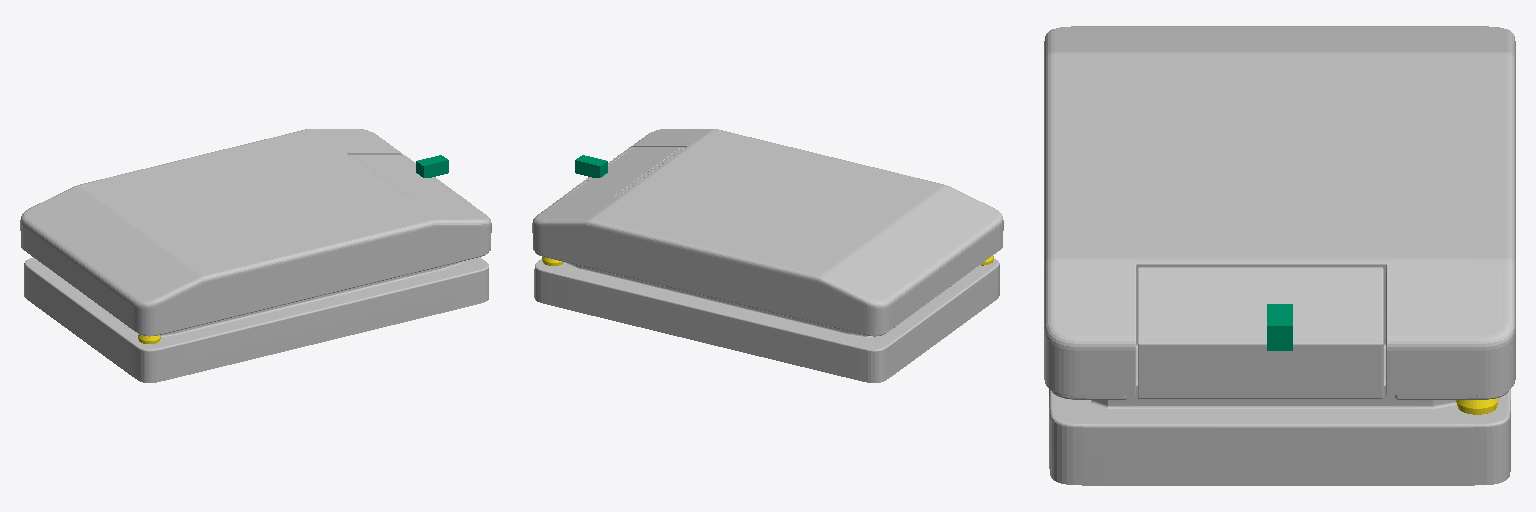
robot.urdf — me00:
<?xml version="1.0" ?>
<!-- =================================================================================== -->
<!-- |    This document was autogenerated by xacro from me00.xacro                     | -->
<!-- |    EDITING THIS FILE BY HAND IS NOT RECOMMENDED                                 | -->
<!-- =================================================================================== -->
<robot name="me00">
  <!-- 45º -->
  <!-- locationprefix = back or front -->
  <!-- wheel_base_dx = distancia adelante atras-->
  <!-- wheel_base_dz = distancia arriba abajo -->
  <!--**************************************************************-->
  <!--DUMMY LINK (without inertia)-->
  <!--**************************************************************-->
  <link name="base_footprint"/>
  <!--**************************************************************-->
  <!--CHASSIS (base link)-->
  <!--**************************************************************-->
  <link name="base_link">
    <inertial>
      <mass value="200.0"/>
      <origin rpy="0 0 1.5620696817948965" xyz="0 0 0"/>
      <inertia ixx="34.802733333333336" ixy="0.0" ixz="0.0" iyy="15.042733333333333" iyz="0.0" izz="45.57333333333334"/>
    </inertial>
    <!--COLLISION-->
    <collision>
      <geometry>
        <mesh filename="package://me00_description/mesh/base.stl" scale="0.001 0.001 0.001"/>
      </geometry>
    </collision>
    <!--VISUAL-->
    <visual>
      <geometry>
        <mesh filename="package://me00_description/mesh/base.stl" scale="0.001 0.001 0.001"/>
      </geometry>
      <material name="aluminum">
        <color rgba="0.8 0.8 0.8 1"/>
      </material>
    </visual>
  </link>
  <!--JOINT-->
  <joint name="base_joint" type="fixed">
    <origin rpy="0 0 0" xyz="0.0 0.0 0.219"/>
    <parent link="base_footprint"/>
    <child link="base_link"/>
  </joint>
  <!--**************************************************************-->
  <!--LEFT WHEEL-->
  <!--**************************************************************-->
  <link name="wheel_left_link">
    <inertial>
      <mass value="40.0"/>
      <origin rpy="1.5707963267948966 0 0" xyz="0 0 0"/>
      <inertia ixx="0.10533329120000001" ixy="0.0" ixz="0.0" iyy="0.10533329120000001" iyz="0.0" izz="0.2"/>
    </inertial>
    <!--COLLISION-->
    <collision>
      <geometry>
        <mesh filename="package://me00_description/mesh/wheel.stl" scale="0.001 0.001 0.001"/>
      </geometry>
    </collision>
    <!--VISUAL-->
    <visual>
      <geometry>
        <mesh filename="package://me00_description/mesh/wheel.stl" scale="0.001 0.001 0.001"/>
      </geometry>
      <material name="yellow">
        <color rgba="0.96 0.88 0.14 1.0"/>
      </material>
    </visual>
  </link>
  <!--JOINT-->
  <joint name="wheel_left_joint" type="continuous">
    <origin rpy="0 0 0" xyz="0.0 0.3 -0.119"/>
    <child link="wheel_left_link"/>
    <parent link="base_link"/>
    <axis rpy="0 0 0" xyz="0 1 0"/>
  </joint>
  <!--**************************************************************-->
  <!--RIGHT WHEEL-->
  <!--**************************************************************-->
  <link name="wheel_right_link">
    <inertial>
      <mass value="40.0"/>
      <origin rpy="1.5707963267948966 0 0" xyz="0 0 0"/>
      <inertia ixx="0.10533329120000001" ixy="0.0" ixz="0.0" iyy="0.10533329120000001" iyz="0.0" izz="0.2"/>
    </inertial>
    <!--COLLISION-->
    <collision>
      <geometry>
        <mesh filename="package://me00_description/mesh/wheel.stl" scale="0.001 0.001 0.001"/>
      </geometry>
    </collision>
    <!--VISUAL-->
    <visual>
      <geometry>
        <mesh filename="package://me00_description/mesh/wheel.stl" scale="0.001 0.001 0.001"/>
      </geometry>
      <material name="yellow">
        <color rgba="0.96 0.88 0.14 1.0"/>
      </material>
    </visual>
  </link>
  <!--JOINT-->
  <joint name="wheel_right_joint" type="continuous">
    <origin rpy="0 0 0" xyz="0.0 -0.3 -0.119"/>
    <child link="wheel_right_link"/>
    <parent link="base_link"/>
    <axis rpy="0 0 0" xyz="0 1 0"/>
  </joint>
  <!--**************************************************************-->
  <!--FRONT LASER-->
  <!--**************************************************************-->
  <!-- JOINT -->
  <joint name="front_laser_joint" type="fixed">
    <origin rpy="0 0 0.78539805" xyz="0.64 0.37 -0.02"/>
    <parent link="base_link"/>
    <child link="laser_front_link"/>
    <dynamics damping="0.01" friction="0.0"/>
  </joint>
  <!-- LINK -->
  <link name="laser_front_link">
    <inertial>
      <origin rpy="0 0 0" xyz="0 0 0"/>
      <mass value="0.3097539019"/>
      <inertia ixx="0.0005844517978" ixy="0" ixz="0" iyy="0.00052872551237" iyz="0" izz="0.00017923555074"/>
    </inertial>
    <visual>
      <!-- VISUAL -->
      <origin rpy="0 0 0" xyz="0 0 0"/>
      <geometry>
        <mesh filename="package://me00_description/mesh/laser.stl" scale="0.001 0.001 0.001"/>
      </geometry>
      <material name="yellow">
        <color rgba="0.96 0.88 0.14 1.0"/>
      </material>
    </visual>
    <collision>
      <!-- COLLISION -->
      <origin rpy="0 0 0" xyz="0 0 0"/>
      <geometry>
        <mesh filename="package://me00_description/mesh/laser.stl" scale="0.001 0.001 0.001"/>
      </geometry>
    </collision>
  </link>
  <!--**************************************************************-->
  <!--BACK LASER-->
  <!--**************************************************************-->
  <!-- JOINT -->
  <joint name="back_laser_joint" type="fixed">
    <origin rpy="0 0 3.926990703589793" xyz="-0.64 -0.37 -0.02"/>
    <parent link="base_link"/>
    <child link="laser_back_link"/>
    <dynamics damping="0.01" friction="0.0"/>
  </joint>
  <!-- LINK -->
  <link name="laser_back_link">
    <inertial>
      <origin rpy="0 0 0" xyz="0 0 0"/>
      <mass value="0.3097539019"/>
      <inertia ixx="0.0005844517978" ixy="0" ixz="0" iyy="0.00052872551237" iyz="0" izz="0.00017923555074"/>
    </inertial>
    <visual>
      <!-- VISUAL -->
      <origin rpy="0 0 0" xyz="0 0 0"/>
      <geometry>
        <mesh filename="package://me00_description/mesh/laser.stl" scale="0.001 0.001 0.001"/>
      </geometry>
      <material name="yellow">
        <color rgba="0.96 0.88 0.14 1.0"/>
      </material>
    </visual>
    <collision>
      <!-- COLLISION -->
      <origin rpy="0 0 0" xyz="0 0 0"/>
      <geometry>
        <mesh filename="package://me00_description/mesh/laser.stl" scale="0.001 0.001 0.001"/>
      </geometry>
    </collision>
  </link>
  <!--**************************************************************-->
  <!--CASTER WHEEL-->
  <!--**************************************************************-->
  <!-- caster hub/base -->
  <joint name="front_caster_rotation_joint" type="continuous">
    <origin rpy="0 0 0" xyz="0.5 0 -0.09000000000000001"/>
    <parent link="base_link"/>
    <child link="front_caster_rotation_link"/>
    <axis xyz="0 0 1"/>
    <dynamics damping="0.01" friction="0.0"/>
  </joint>
  <link name="front_caster_rotation_link">
    <inertial>
      <origin rpy="0 0 1.5707963267948966 " xyz="0 0 -0.042500000044"/>
      <mass value="10.0"/>
      <inertia ixx="0.0005844517978" ixy="0" ixz="0" iyy="0.00052872551237" iyz="0" izz="0.00017923555074"/>
    </inertial>
    <visual>
      <origin rpy="0 0 3.141592653589793" xyz="0 0 0"/>
      <geometry>
        <mesh filename="package://me00_description/mesh/caster_base_test.stl" scale="0.001 0.001 0.001"/>
      </geometry>
    </visual>
    <collision>
      <origin rpy="0 0 3.141592653589793" xyz="0 0 0"/>
      <geometry>
        <mesh filename="package://me00_description/mesh/caster_base_test.stl" scale="0.001 0.001 0.001"/>
      </geometry>
    </collision>
  </link>
  <!-- caster wheel -->
  <joint name="front_caster_wheel_joint" type="continuous">
    <origin rpy="0 0 0" xyz="-0.038 0 -0.079"/>
    <parent link="front_caster_rotation_link"/>
    <child link="front_caster_wheel_link"/>
    <axis xyz="0 1 0"/>
  </joint>
  <link name="front_caster_wheel_link">
    <inertial>
      <mass value="5.0"/>
      <origin rpy="1.5707963267948966 0 0" xyz="0 0 0"/>
      <inertia ixx="0.0031666654000000005" ixy="0.0" ixz="0.0" iyy="0.0031666654000000005" iyz="0.0" izz="0.00625"/>
    </inertial>
    <visual>
      <origin rpy="0 0 3.141592653589793" xyz="0 0 0"/>
      <geometry>
        <mesh filename="package://me00_description/mesh/caster_wheel.stl" scale="0.001 0.001 0.001"/>
      </geometry>
      <material name="cyan">
        <color rgba="0.0 0.0 0.8 1.0"/>
      </material>
    </visual>
    <collision>
      <origin rpy="0 0 3.141592653589793" xyz="0 0 0"/>
      <geometry>
        <mesh filename="package://me00_description/mesh/caster_wheel.stl" scale="0.001 0.001 0.001"/>
      </geometry>
    </collision>
  </link>
  <!-- caster hub/base -->
  <joint name="back_caster_rotation_joint" type="continuous">
    <origin rpy="0 0 0" xyz="-0.5 0 -0.09000000000000001"/>
    <parent link="base_link"/>
    <child link="back_caster_rotation_link"/>
    <axis xyz="0 0 1"/>
    <dynamics damping="0.01" friction="0.0"/>
  </joint>
  <link name="back_caster_rotation_link">
    <inertial>
      <origin rpy="0 0 1.5707963267948966 " xyz="0 0 -0.042500000044"/>
      <mass value="10.0"/>
      <inertia ixx="0.0005844517978" ixy="0" ixz="0" iyy="0.00052872551237" iyz="0" izz="0.00017923555074"/>
    </inertial>
    <visual>
      <origin rpy="0 0 3.141592653589793" xyz="0 0 0"/>
      <geometry>
        <mesh filename="package://me00_description/mesh/caster_base_test.stl" scale="0.001 0.001 0.001"/>
      </geometry>
    </visual>
    <collision>
      <origin rpy="0 0 3.141592653589793" xyz="0 0 0"/>
      <geometry>
        <mesh filename="package://me00_description/mesh/caster_base_test.stl" scale="0.001 0.001 0.001"/>
      </geometry>
    </collision>
  </link>
  <!-- caster wheel -->
  <joint name="back_caster_wheel_joint" type="continuous">
    <origin rpy="0 0 0" xyz="-0.038 0 -0.079"/>
    <parent link="back_caster_rotation_link"/>
    <child link="back_caster_wheel_link"/>
    <axis xyz="0 1 0"/>
  </joint>
  <link name="back_caster_wheel_link">
    <inertial>
      <mass value="5.0"/>
      <origin rpy="1.5707963267948966 0 0" xyz="0 0 0"/>
      <inertia ixx="0.0031666654000000005" ixy="0.0" ixz="0.0" iyy="0.0031666654000000005" iyz="0.0" izz="0.00625"/>
    </inertial>
    <visual>
      <origin rpy="0 0 3.141592653589793" xyz="0 0 0"/>
      <geometry>
        <mesh filename="package://me00_description/mesh/caster_wheel.stl" scale="0.001 0.001 0.001"/>
      </geometry>
      <material name="cyan">
        <color rgba="0.0 0.0 0.8 1.0"/>
      </material>
    </visual>
    <collision>
      <origin rpy="0 0 3.141592653589793" xyz="0 0 0"/>
      <geometry>
        <mesh filename="package://me00_description/mesh/caster_wheel.stl" scale="0.001 0.001 0.001"/>
      </geometry>
    </collision>
  </link>
  <!--**************************************************************-->
  <!--BACK CASTER SPHERE WHEEL-->
  <!--**************************************************************-->
  <!-- <joint name="back_caster_sphere_joint" type="fixed">
        <origin xyz="${caster_base_back_x} ${caster_base_back_y} ${caster_base_back_z+caster_wheel_to_base_z}" rpy="0 0 0" />
        <parent link="${base_link}" />
        <child link="back_caster_sphere_link" />
    </joint>

    <link name="back_caster_sphere_link">
        <xacro:sphere_inertia m="${caster_wheel_mass}" r="${caster_radius}">
            <origin xyx="0 0 0" rpy="0 0 0" />
        </xacro:sphere_inertia>
        <visual>
            <origin xyz="0 0 0" rpy="0 0 0" />
            <geometry>
                <mesh filename="${caster_sphere_wheel_mesh}" scale="${mesh_scale} ${mesh_scale} ${mesh_scale}"/>
            </geometry>
            <xacro:insert_block name="material_blue"/>
        </visual>
        <collision>
            <origin xyz="0 0 0" rpy="0 0 0" />          
            <geometry>
                <mesh filename="${caster_sphere_wheel_mesh}" scale="${mesh_scale} ${mesh_scale} ${mesh_scale}"/>
            </geometry>
        </collision>
    </link> -->
  <!--**************************************************************-->
  <!--FRONT CASTER SPHERE WHEEL-->
  <!--**************************************************************-->
  <!-- <joint name="front_caster_sphere_joint" type="fixed">
        <origin xyz="${caster_base_front_x} ${caster_base_front_y} ${caster_base_front_z+caster_wheel_to_base_z}" rpy="0 0 0" />
        <parent link="${base_link}" />
        <child link="front_caster_sphere_link" />
    </joint>

    <link name="front_caster_sphere_link">
        <xacro:sphere_inertia m="${caster_wheel_mass}" r="${caster_radius}">
            <origin xyx="0 0 0" rpy="0 0 0" />
        </xacro:sphere_inertia>
        <visual>
            <origin xyz="0 0 0" rpy="0 0 0" />
            <geometry>
                <mesh filename="${caster_sphere_wheel_mesh}" scale="${mesh_scale} ${mesh_scale} ${mesh_scale}"/>
            </geometry>
            <xacro:insert_block name="material_blue"/>
        </visual>
        <collision>
            <origin xyz="0 0 0" rpy="0 0 0" />          
            <geometry>
                <mesh filename="${caster_sphere_wheel_mesh}" scale="${mesh_scale} ${mesh_scale} ${mesh_scale}"/>
            </geometry>
        </collision>
    </link> -->
  <!--**************************************************************-->
  <!--USB CAMERA-->
  <!--**************************************************************-->
  <link name="camera_link">
    <!--INERTIA-->
    <!--Not calling macro, just small values-->
    <inertial>
      <mass value="0.005"/>
      <inertia ixx="0.001" ixy="0.0" ixz="0.0" iyy="0.001" iyz="0.0" izz="0.001"/>
    </inertial>
    <collision>
      <geometry>
        <box size="0.1 0.05 0.05"/>
      </geometry>
    </collision>
    <visual>
      <geometry>
        <box size="0.1 0.05 0.05"/>
      </geometry>
      <material name="dark"/>
    </visual>
  </link>
  <joint name="camera_joint" type="fixed">
    <origin rpy="0 0 0" xyz="0.7 0 0.15"/>
    <child link="camera_link"/>
    <parent link="base_link"/>
  </joint>
  <gazebo reference="base_link">
    <material>Gazebo/FlatBlack</material>
  </gazebo>
  <gazebo reference="wheel_left_link">
    <material>Gazebo/FlatBlack</material>
    <mu1>0.9</mu1>
    <mu2>0.9</mu2>
    <kp>10000000.0</kp>
    <kd>1.0</kd>
    <minDepth>0.01</minDepth>
  </gazebo>
  <gazebo reference="wheel_right_link">
    <material>Gazebo/FlatBlack</material>
    <mu1>0.9</mu1>
    <mu2>0.9</mu2>
    <kp>10000000.0</kp>
    <kd>1.0</kd>
    <minDepth>0.01</minDepth>
  </gazebo>
  <gazebo reference="front_caster_wheel_link">
    <material>Gazebo/Blue</material>
    <mu1>0.1</mu1>
    <mu2>0.1</mu2>
    <kp>10000000.0</kp>
    <kd>1.0</kd>
  </gazebo>
  <gazebo reference="back_caster_wheel_link">
    <material>Gazebo/Blue</material>
    <mu1>0.1</mu1>
    <mu2>0.1</mu2>
    <kp>10000000.0</kp>
    <kd>1.0</kd>
  </gazebo>
  <!-- <gazebo reference="back_caster_sphere_link">
  <material>Gazebo/Blue</material>
  <mu1>0.01</mu1>
  <mu2>0.01</mu2>
  <kp>1000000.0</kp>
  <kd>0.01</kd>
  <minDepth>0.01</minDepth>
</gazebo>

<gazebo reference="front_caster_sphere_link">
  <material>Gazebo/Blue</material>
  <mu1>0.01</mu1>
  <mu2>0.01</mu2>
  <kp>1000000.0</kp>
  <kd>0.01</kd>
  <minDepth>0.01</minDepth>
</gazebo> -->
  <gazebo reference="front_caster_rotation_link">
    <material>Gazebo/Gray</material>
    <mu1>0.1</mu1>
    <mu2>0.1</mu2>
    <kp>10000000.0</kp>
    <kd>1.0</kd>
  </gazebo>
  <gazebo reference="back_caster_rotation_link">
    <material>Gazebo/Gray</material>
    <mu1>0.1</mu1>
    <mu2>0.1</mu2>
    <kp>10000000.0</kp>
    <kd>1.0</kd>
  </gazebo>
  <!--======= GAZEBO PLUGINS ===========-->
  <gazebo>
    <!--JOINT_STATES-->
    <plugin filename="libgazebo_ros_joint_state_publisher.so" name="plugin_joint_state">
      <ros>
        <namespace>/me00_1</namespace>
        <argument>joint_states:=Description/joint_states</argument>
      </ros>
      <update_rate>15.0</update_rate>
      <joint_name>wheel_left_joint</joint_name>
      <joint_name>wheel_right_joint</joint_name>
      <joint_name>front_caster_wheel_joint</joint_name>
      <joint_name>back_caster_wheel_joint</joint_name>
      <joint_name>front_caster_rotation_joint</joint_name>
      <joint_name>back_caster_rotation_joint</joint_name>
    </plugin>
    <!--DIFFERENTIAL DRIVE-->
    <plugin filename="libgazebo_ros_diff_drive.so" name="plugin_diff_drive">
      <ros>
        <namespace>/me00_1</namespace>
        <argument>cmd_vel:=Control/cmd_vel</argument>
        <argument>odom:=Wheelmotor/odom</argument>
        <argument>/tf:=tf</argument>
        <argument>/tf_static:=tf_static</argument>
      </ros>
      <update_rate>15.0</update_rate>
      <left_joint>wheel_left_joint</left_joint>
      <right_joint>wheel_right_joint</right_joint>
      <wheel_separation>0.6</wheel_separation>
      <wheel_diameter>0.2</wheel_diameter>
      <max_wheel_torque>30.0</max_wheel_torque>
      <max_wheel_acceleration>0.0</max_wheel_acceleration>
      <command_topic>cmd_vel</command_topic>
      <publish_odom>true</publish_odom>
      <publish_odom_tf>true</publish_odom_tf>
      <publish_wheel_tf>true</publish_wheel_tf>
      <odometry_topic>odom</odometry_topic>
      <odometry_frame>odom</odometry_frame>
      <robot_base_frame>base_footprint</robot_base_frame>
    </plugin>
  </gazebo>
  <!--======= LASERS PLUGINS ===========-->
  <gazebo reference="laser_front_link">
    <material value="Gazebo/Yellow"/>
    <sensor name="laser_front_link" type="ray">
      <visualize>true</visualize>
      <update_rate>12.5</update_rate>
      <ray>
        <scan>
          <horizontal>
            <samples>541</samples>
            <resolution>1</resolution>
            <min_angle>-2.35619449615</min_angle>
            <max_angle>2.35619449615</max_angle>
          </horizontal>
        </scan>
        <range>
          <min>0.05</min>
          <max>15.0</max>
          <resolution>0.01</resolution>
        </range>
        <noise>
          <type>gaussian</type>
          <mean>0.0</mean>
          <stddev>0.01</stddev>
        </noise>
      </ray>
      <plugin filename="libgazebo_ros_ray_sensor.so" name="gazebo_ros_laser_front_link_controller">
        <ros>
          <namespace>/me00_1</namespace>
          <argument>~/out:=Laser_Front/laser_scan</argument>
        </ros>
        <frame_name>laser_front_link</frame_name>
        <output_type>sensor_msgs/LaserScan</output_type>
      </plugin>
    </sensor>
  </gazebo>
  <gazebo reference="laser_back_link">
    <material value="Gazebo/Yellow"/>
    <sensor name="laser_back_link" type="ray">
      <visualize>true</visualize>
      <update_rate>12.5</update_rate>
      <ray>
        <scan>
          <horizontal>
            <samples>541</samples>
            <resolution>1</resolution>
            <min_angle>-2.35619449615</min_angle>
            <max_angle>2.35619449615</max_angle>
          </horizontal>
        </scan>
        <range>
          <min>0.05</min>
          <max>15.0</max>
          <resolution>0.01</resolution>
        </range>
        <noise>
          <type>gaussian</type>
          <mean>0.0</mean>
          <stddev>0.01</stddev>
        </noise>
      </ray>
      <plugin filename="libgazebo_ros_ray_sensor.so" name="gazebo_ros_laser_back_link_controller">
        <ros>
          <namespace>/me00_1</namespace>
          <argument>~/out:=Laser_Back/laser_scan</argument>
        </ros>
        <frame_name>laser_back_link</frame_name>
        <output_type>sensor_msgs/LaserScan</output_type>
      </plugin>
    </sensor>
  </gazebo>
  <!--======= CAMERA PLUGIN ===========-->
  <gazebo reference="camera_link">
    <material>Gazebo/FlatBlack</material>
    <sensor name="Camera" type="depth">
      <!-- Set always_on only sensor, not on plugin -->
      <always_on>1</always_on>
      <!-- Set update_rate only sensor, not on plugin -->
      <update_rate>15.0</update_rate>
      <camera name="Camera">
        <distortion>
          <k1>0.0</k1>
          <k2>0.0</k2>
          <k3>0.0</k3>
          <p1>0.0</p1>
          <p2>0.0</p2>
          <center>0.0 0.0</center>
        </distortion>
      </camera>
      <plugin filename="libgazebo_ros_camera.so" name="plugin_name">
        <!-- Change namespace, camera name and topics so:
                  * Raw images are published to: /custom_ns/custom_camera/custom_image
                  * Depth images are published to: /custom_ns/custom_camera/custom_image_depth
                  * Raw image camera info is published to: /custom_ns/custom_camera/custom_info_raw
                  * Depth image camera info is published to: /custom_ns/custom_camera/custom_info_depth
                  * Point cloud is published to: /custom_ns/custom_camera/custom_points 
              -->
        <ros>
          <namespace>/me00_1</namespace>
          <argument>image_raw:=image_raw</argument>
        </ros>
        <!-- Set camera name. If empty, defaults to sensor name (i.e. "sensor_name") -->
        <camera_name>Camera</camera_name>
        <!-- Set TF frame name. If empty, defaults to link name (i.e. "link_name") -->
        <frame_name>camera_link</frame_name>
        <hack_baseline>0.07</hack_baseline>
        <!-- No need to repeat distortion parameters or to set autoDistortion -->
        <min_depth>0.001</min_depth>
      </plugin>
    </sensor>
  </gazebo>
</robot>

--- Render facts (derived) ---
The picture shows the robot from 3 angles, left to right: view 1: azimuth 30°, elevation 25°; view 2: azimuth 150°, elevation 25°; view 3: azimuth 270°, elevation 25°; orthographic projection.
Model me00 with 11 links and 10 joints (6 continuous, 4 fixed), rooted at base_footprint, posed every joint at zero.
Links seen in each view (by area): view 1: base_link, camera_link; view 2: base_link, camera_link; view 3: base_link, camera_link, laser_front_link.
Link boxes in pixels (x1,y1,x2,y2): base_link: [20, 129, 491, 382]; camera_link: [416, 155, 448, 177]; base_link: [532, 129, 1003, 382]; camera_link: [575, 155, 607, 177]; base_link: [1044, 26, 1515, 485]; camera_link: [1267, 304, 1292, 350]; laser_front_link: [1456, 395, 1497, 414].
Size in the robot's own frame: 1.45 by 0.8838 by 0.4028 metres.
Meshes: 5 distinct files referenced, 9 mesh visuals loaded (5 binary STL).
